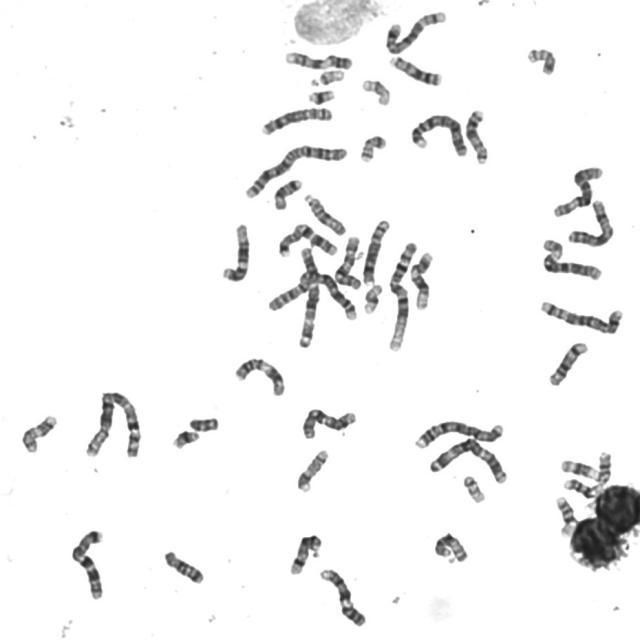A1: (80, 386, 144, 461), (383, 237, 419, 354)
A2: (240, 140, 349, 200), (264, 268, 360, 322)
A3: (425, 433, 511, 486), (294, 258, 321, 349)
B4: (410, 416, 506, 451), (406, 110, 468, 158)
B5: (536, 296, 626, 336), (382, 6, 449, 56)
C10: (298, 404, 358, 440), (331, 232, 363, 292)
C11: (559, 446, 614, 497), (231, 353, 287, 398)
C12: (217, 219, 252, 283), (407, 247, 435, 312)
C6: (549, 162, 605, 219), (538, 235, 604, 282)
C7: (66, 525, 106, 602), (274, 219, 341, 259)
C8: (258, 102, 334, 137), (358, 216, 392, 286)
C9: (315, 564, 368, 628), (281, 46, 355, 71)
D13: (385, 52, 444, 87), (462, 105, 491, 166)
D14: (545, 338, 590, 388), (288, 534, 322, 576)
D15: (300, 189, 348, 237), (430, 528, 470, 564)
E16: (552, 492, 578, 539), (563, 478, 604, 499)
E17: (17, 410, 59, 454), (293, 445, 330, 494)
E18: (160, 547, 206, 585), (271, 174, 304, 211)
F19: (358, 75, 392, 107), (359, 279, 385, 316)
F20: (523, 44, 558, 76), (357, 130, 388, 163)
G21: (169, 426, 201, 450), (305, 85, 336, 106)
G22: (460, 472, 487, 504), (310, 65, 346, 87)
X: (564, 196, 615, 248)
Y: (186, 412, 220, 432)
